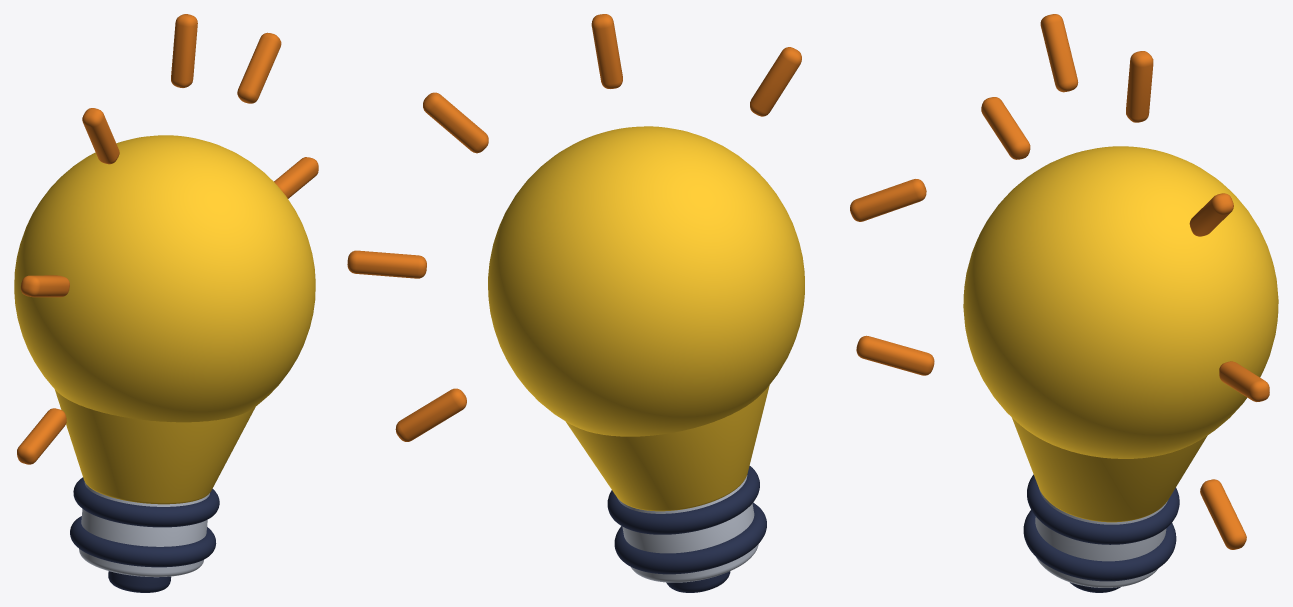
The model's file is onboarding-tutor.glb.
3 views of the same model, side by side, from view 1: azimuth 30°, elevation 25°; view 2: azimuth 150°, elevation 25°; view 3: azimuth 270°, elevation 25° (orthographic). The views are drawn at different scales.
Visible parts, largest first — view 1: Sphere, Cone, Cylinder, Torus, Torus.001, Cube.002, Cube.003, Cube.006, Cube.004, Cube.005, Cube.001, Cylinder.001; view 2: Sphere, Cone, Cylinder, Torus, Torus.001, Cube.001, Cube.006, Cube.005, Cube, Cube.002, Cube.004, Cube.003; view 3: Sphere, Cone, Torus, Torus.001, Cylinder, Cube.004, Cube, Cube.003, Cube.005, Cube.001, Cube.002.
Part boxes in pixels (x1,y1,x2,y2): Sphere: (14, 135, 315, 422); Cone: (55, 390, 255, 504); Cylinder: (79, 482, 209, 577); Torus: (70, 516, 216, 567); Torus.001: (73, 477, 219, 527); Cube.002: (237, 32, 281, 103); Cube.003: (171, 14, 197, 87); Cube.006: (17, 408, 66, 464); Cube.004: (82, 108, 119, 164); Cube.005: (20, 275, 69, 297); Cube.001: (274, 157, 318, 198); Cylinder.001: (108, 571, 171, 592); Sphere: (488, 126, 804, 436); Cone: (566, 385, 769, 511); Cylinder: (617, 475, 758, 582); Torus: (614, 502, 766, 574); Torus.001: (607, 466, 759, 534); Cube.001: (347, 250, 426, 278); Cube.006: (856, 335, 934, 375); Cube.005: (850, 179, 926, 221); Cube: (395, 388, 466, 441); Cube.002: (423, 92, 488, 153); Cube.004: (750, 47, 801, 116); Cube.003: (591, 14, 622, 88); Sphere: (963, 146, 1278, 458); Cone: (1012, 418, 1207, 522); Torus: (1023, 510, 1176, 581); Torus.001: (1027, 474, 1179, 544); Cylinder: (1035, 489, 1167, 587); Cube.004: (1040, 14, 1078, 92); Cube: (1200, 479, 1246, 549); Cube.003: (1126, 51, 1153, 122); Cube.005: (981, 97, 1030, 159); Cube.001: (1219, 361, 1269, 401); Cube.002: (1189, 193, 1233, 236).
Size of the model in its own units: 2.36 by 2.84 by 1.44.
